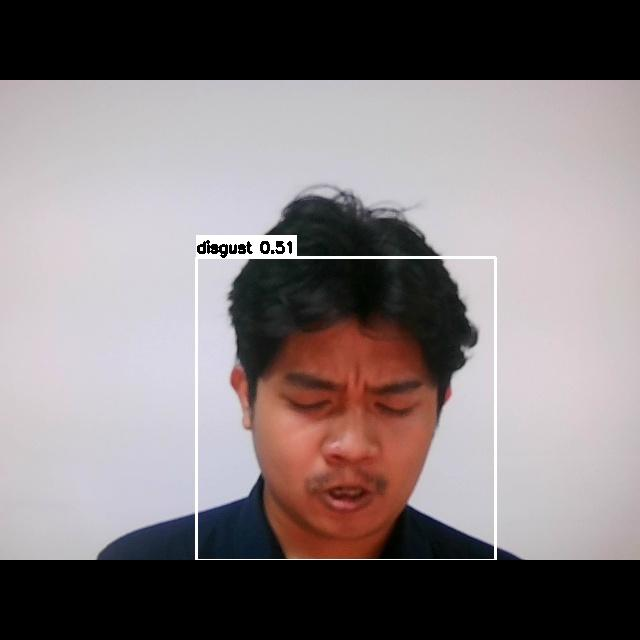Angry: (266, 354, 448, 531)
